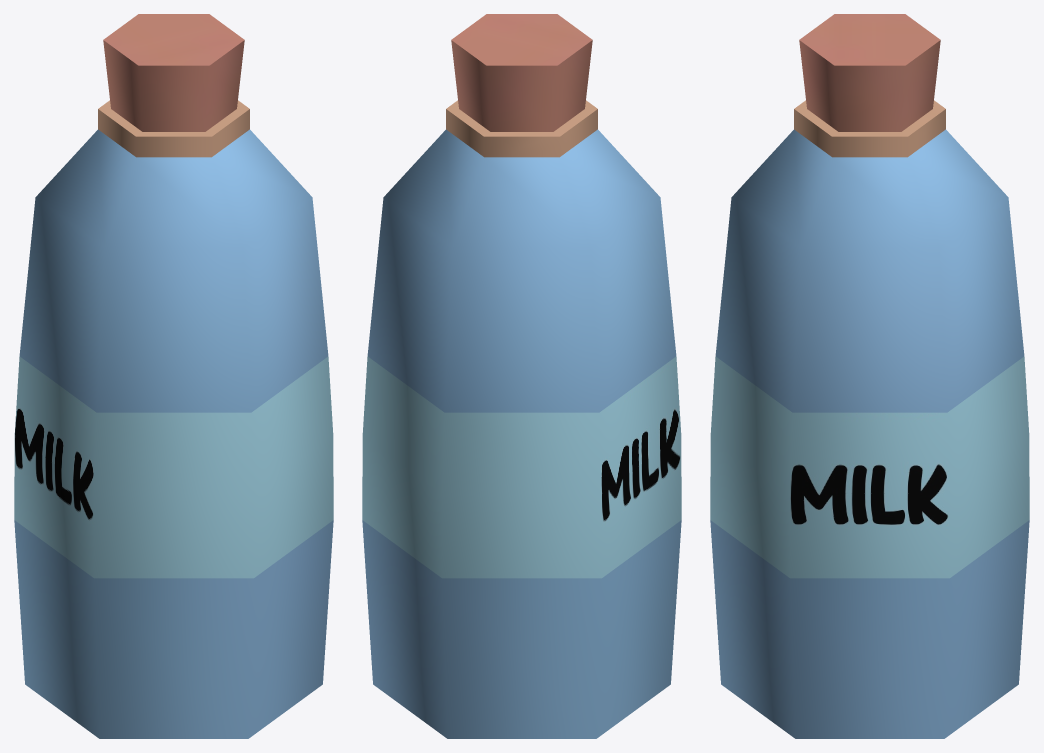
File: MilkEmpty.fbx
3 views of the same model, side by side, from view 1: azimuth 30°, elevation 25°; view 2: azimuth 150°, elevation 25°; view 3: azimuth 270°, elevation 25° (orthographic).
Visible parts, largest first — view 1: MilkEmpty; view 2: MilkEmpty; view 3: MilkEmpty.
Boxes of the visible parts, left/top/right/bottom form: MilkEmpty: left=14, top=14, right=333, bottom=738; MilkEmpty: left=362, top=14, right=681, bottom=738; MilkEmpty: left=710, top=14, right=1029, bottom=738.
Size of the model in its own units: 186 by 478 by 214.
